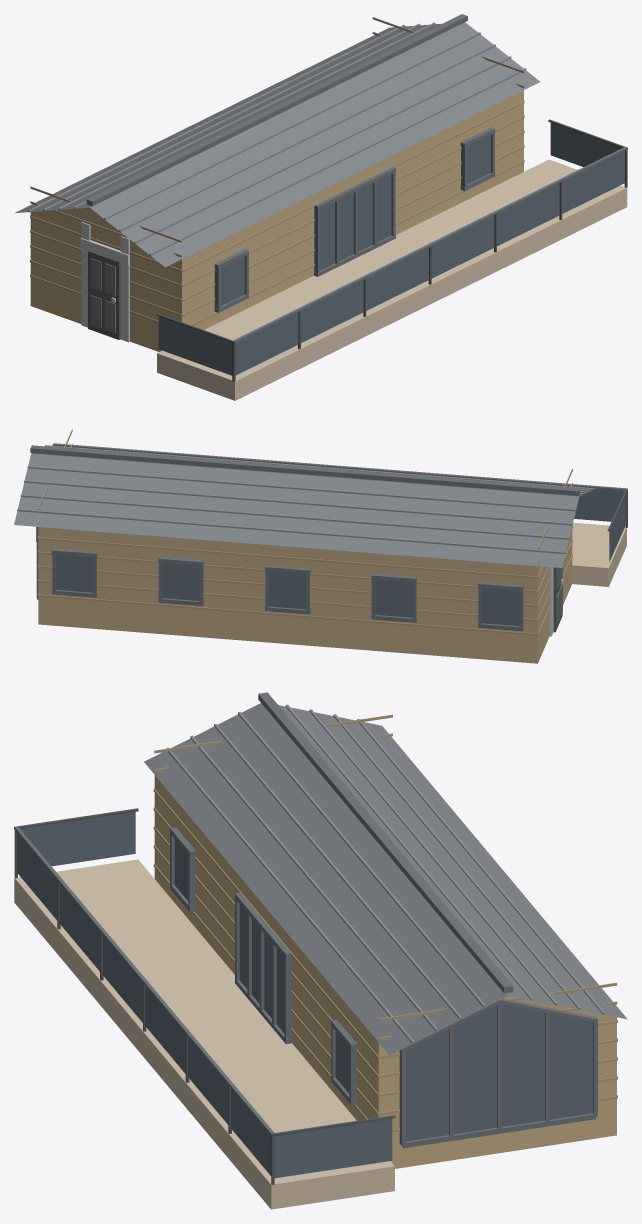
The picture shows the model from 3 angles, top to bottom: view 1: azimuth 30°, elevation 25°; view 2: azimuth 150°, elevation 25°; view 3: azimuth 270°, elevation 25°; orthographic projection. The views are drawn at different scales.
Parts seen in each view (by area): view 1: slate, door_wood, larch, slate_dk, slate_lt, door_wood_p, window_glass_007, stone_band, window_glass_001, window_glass_004, window_glass_002, window_glass_003 (+12 smaller); view 2: door_wood, slate, slate_dk, slate_lt, door_wood_p, larch, window_glass_017, window_glass_019, window_glass_016, window_glass_018, window_glass_020, window_glass_001 (+2 smaller); view 3: slate, larch, door_wood, window_glass_015, slate_dk, slate_lt, window_glass_008, door_wood_p, window_glass_007, pipe, window_glass_001, window_glass_002 (+6 smaller).
Part boxes in pixels (<box>): slate: <box>14,22,540,267</box>; door_wood: <box>30,53,523,351</box>; larch: <box>157,159,627,400</box>; slate_dk: <box>86,14,626,343</box>; slate_lt: <box>28,22,526,255</box>; door_wood_p: <box>30,17,524,325</box>; window_glass_007: <box>158,316,232,375</box>; stone_band: <box>80,222,129,342</box>; window_glass_001: <box>235,312,298,375</box>; window_glass_004: <box>431,215,494,278</box>; window_glass_002: <box>301,280,363,342</box>; window_glass_003: <box>366,248,428,310</box>; door_wood: <box>38,527,572,663</box>; slate: <box>14,453,596,567</box>; slate_dk: <box>30,443,626,631</box>; slate_lt: <box>17,445,593,554</box>; door_wood_p: <box>37,429,572,635</box>; larch: <box>36,522,626,586</box>; window_glass_017: <box>162,563,199,600</box>; window_glass_019: <box>375,579,412,617</box>; window_glass_016: <box>56,554,92,592</box>; window_glass_018: <box>269,571,305,609</box>; window_glass_020: <box>482,588,518,625</box>; window_glass_001: <box>574,489,624,521</box>; slate: <box>144,703,627,1055</box>; larch: <box>14,859,394,1209</box>; door_wood: <box>154,775,616,1168</box>; window_glass_015: <box>406,1004,592,1141</box>; slate_dk: <box>14,692,597,1148</box>; slate_lt: <box>166,704,605,1043</box>; window_glass_008: <box>274,1119,392,1178</box>; door_wood_p: <box>153,714,617,1132</box>; window_glass_007: <box>20,812,135,866</box>; pipe: <box>14,808,395,1185</box>; window_glass_001: <box>17,833,57,920</box>; window_glass_002: <box>59,884,99,971</box>.
Bounding box in the file's own units: 15.36 × 3.62 × 11.22.
